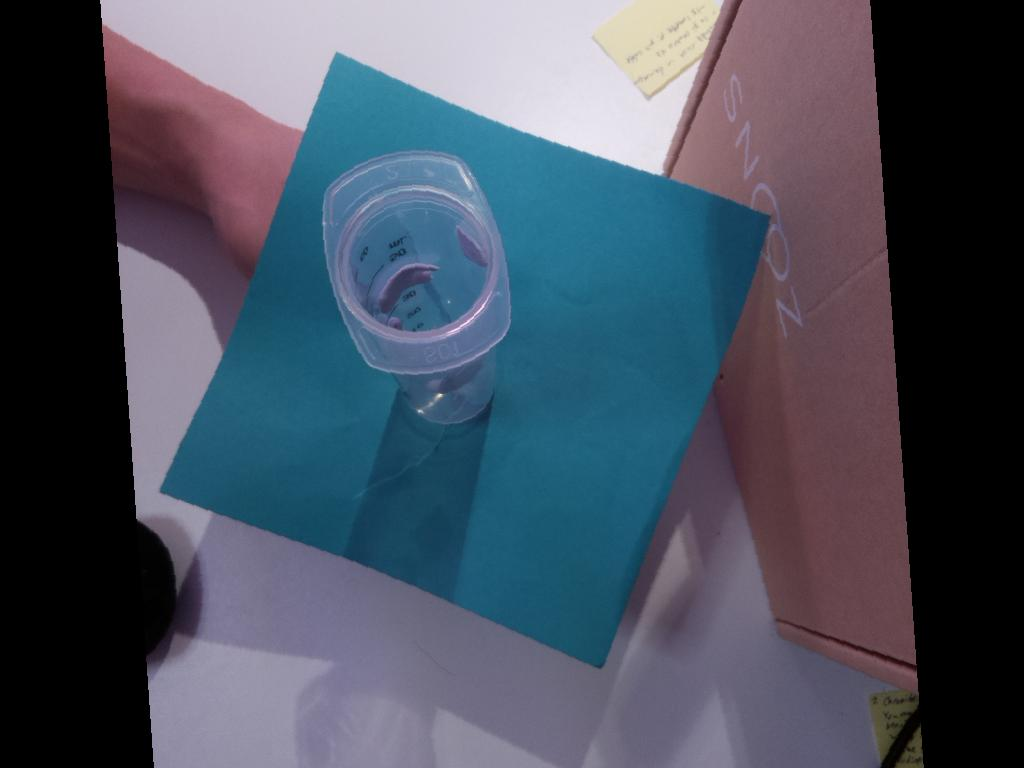dirty: (320, 147, 512, 375)
